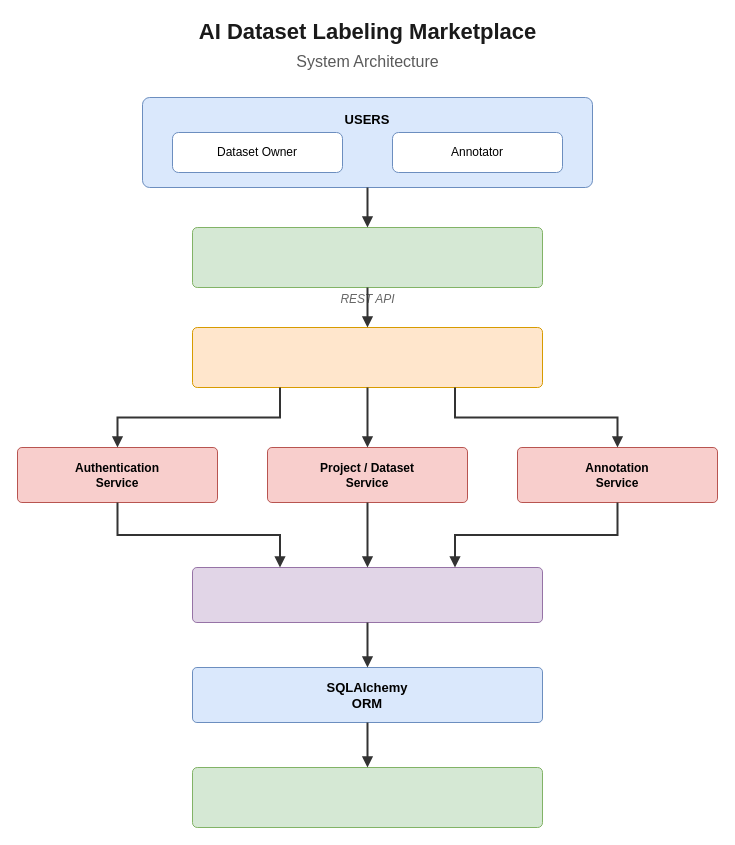
This 735x845 diagram has some shape labels left out. Here are the shapes that lost their labels. From the top down, the centre of each, then its label:
At point (367, 257): "React Frontend Web Client".
At point (367, 357): "FastAPI Backend API Layer".
At point (367, 594): "Repository Layer".
At point (367, 797): "PostgreSQL Database".
